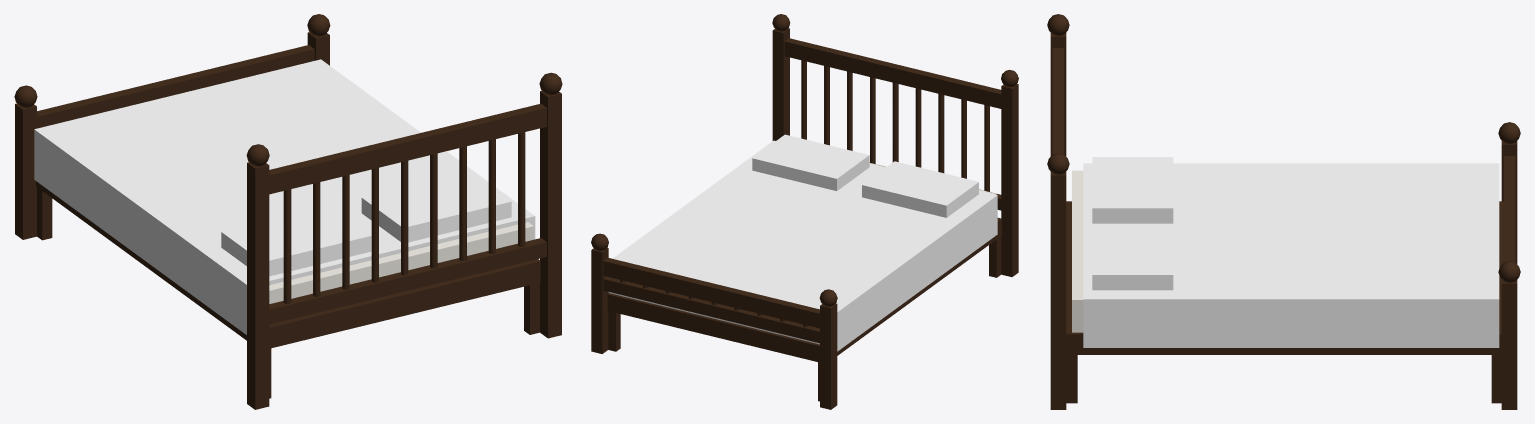
File: bed-double.obj
3 views of the same model, side by side, from view 1: azimuth 30°, elevation 25°; view 2: azimuth 150°, elevation 25°; view 3: azimuth 270°, elevation 25° (orthographic). The views are drawn at different scales.
Visible parts, largest first — view 1: bed-double_6, bed-double_0, bed-double_13, bed-double_9, bed-double_14, bed-double_8, bed-double_11, bed-double_28, bed-double_7, bed-double_5, bed-double_24, bed-double_15 (+11 smaller); view 2: bed-double_6, bed-double_0, bed-double_13, bed-double_28, bed-double_8, bed-double_7, bed-double_9, bed-double_29, bed-double_11, bed-double_24, bed-double_26, bed-double_19 (+10 smaller); view 3: bed-double_6, bed-double_8, bed-double_7, bed-double_0, bed-double_11, bed-double_26, bed-double_5, bed-double_28, bed-double_13, bed-double_9, bed-double_24, bed-double_4 (+1 smaller).
Part boxes in pixels (left/top/right/bottom): bed-double_6: left=34, top=59, right=535, bottom=334; bed-double_0: left=36, top=181, right=540, bottom=348; bed-double_13: left=269, top=103, right=546, bottom=194; bed-double_9: left=247, top=162, right=269, bottom=409; bed-double_14: left=269, top=238, right=546, bottom=324; bed-double_8: left=361, top=171, right=511, bottom=242; bed-double_11: left=540, top=91, right=561, bottom=338; bed-double_28: left=37, top=45, right=314, bottom=128; bed-double_7: left=221, top=205, right=371, bottom=276; bed-double_5: left=269, top=222, right=533, bottom=303; bed-double_24: left=15, top=103, right=36, bottom=239; bed-double_15: left=283, top=189, right=291, bottom=303; bed-double_6: left=608, top=140, right=997, bottom=351; bed-double_0: left=607, top=217, right=1001, bottom=362; bed-double_13: left=784, top=38, right=1001, bottom=108; bed-double_28: left=603, top=257, right=819, bottom=328; bed-double_8: left=752, top=134, right=869, bottom=190; bed-double_7: left=862, top=161, right=978, bottom=217; bed-double_9: left=1001, top=84, right=1018, bottom=276; bed-double_29: left=603, top=276, right=819, bottom=343; bed-double_11: left=772, top=28, right=789, bottom=140; bed-double_24: left=820, top=303, right=837, bottom=409; bed-double_26: left=591, top=247, right=608, bottom=353; bed-double_19: left=892, top=82, right=898, bottom=162; bed-double_6: left=1083, top=163, right=1499, bottom=347; bed-double_8: left=1092, top=223, right=1173, bottom=290; bed-double_7: left=1092, top=157, right=1173, bottom=223; bed-double_0: left=1066, top=201, right=1503, bottom=354; bed-double_11: left=1050, top=171, right=1066, bottom=409; bed-double_26: left=1501, top=279, right=1517, bottom=409; bed-double_5: left=1072, top=170, right=1083, bottom=332; bed-double_28: left=1504, top=156, right=1515, bottom=262; bed-double_13: left=1052, top=48, right=1063, bottom=153; bed-double_9: left=1050, top=33, right=1066, bottom=156; bed-double_24: left=1501, top=141, right=1517, bottom=264; bed-double_4: left=1066, top=355, right=1077, bottom=403.
Size of the model in its own units: 1.56 by 1.24 by 2.1.
